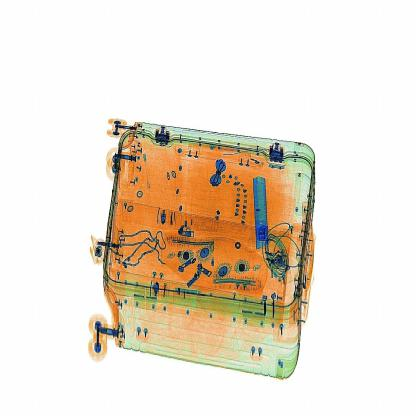pliers: (244, 167, 276, 264)
